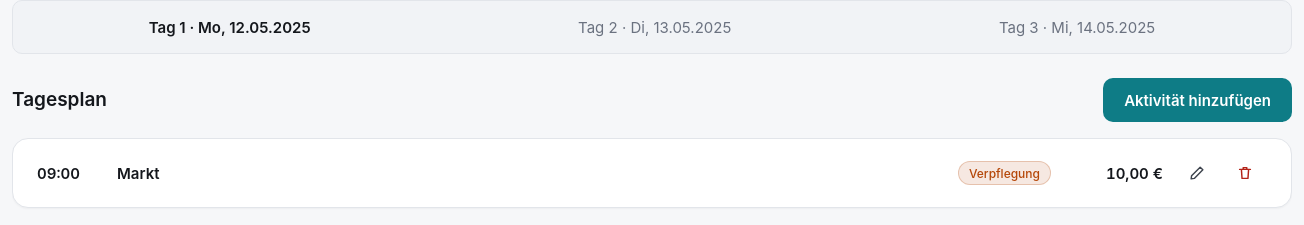
Test: TripDetailPage — day plan › shows the days of the trip as selectable tabs and switches the shown plan
Expected: the tab "Tag 3 · Mi, 14.05.2025" is shown, [867,5,1287,49]
Expected: the text "Markt" is shown, [117,164,160,182]
Click the tab "Tag 2 · Di, 13.05.2025": x=655, y=27 [446,5,863,49]
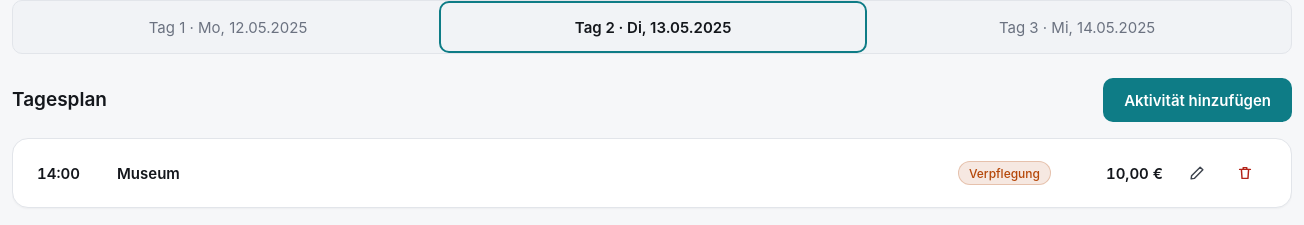
Expected: the text "Museum" is shown, [117,164,180,182]
Expected: the text "Markt" is gone
